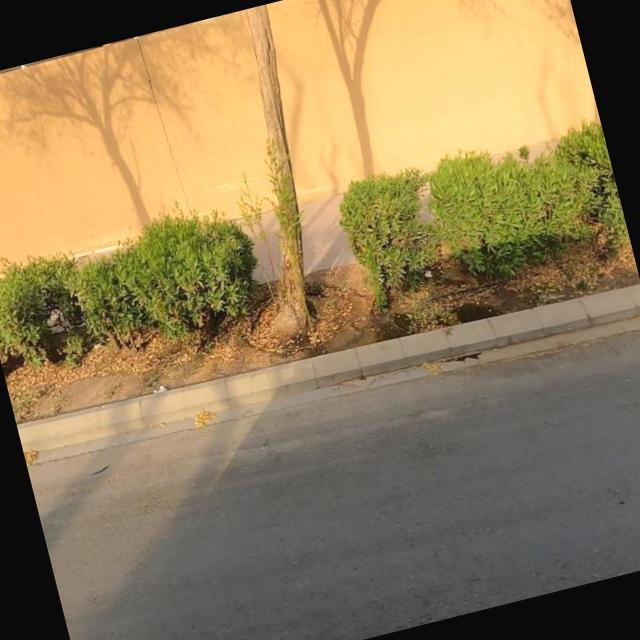debris: (128, 356, 192, 424)
